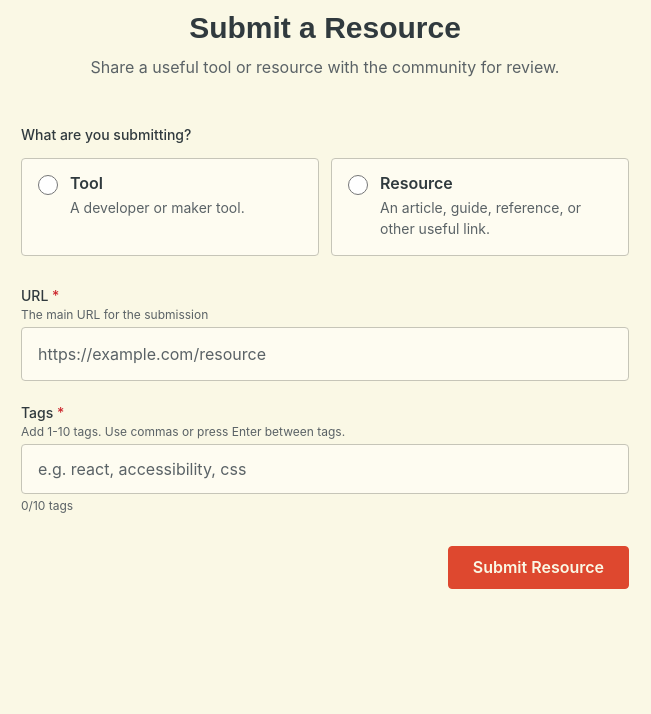
Scenario: SubmitPage › shows safe submission diagnostics to admins outside development mode
Click the radio button labelled "Resource" at (358, 185), box [348,175,368,195]
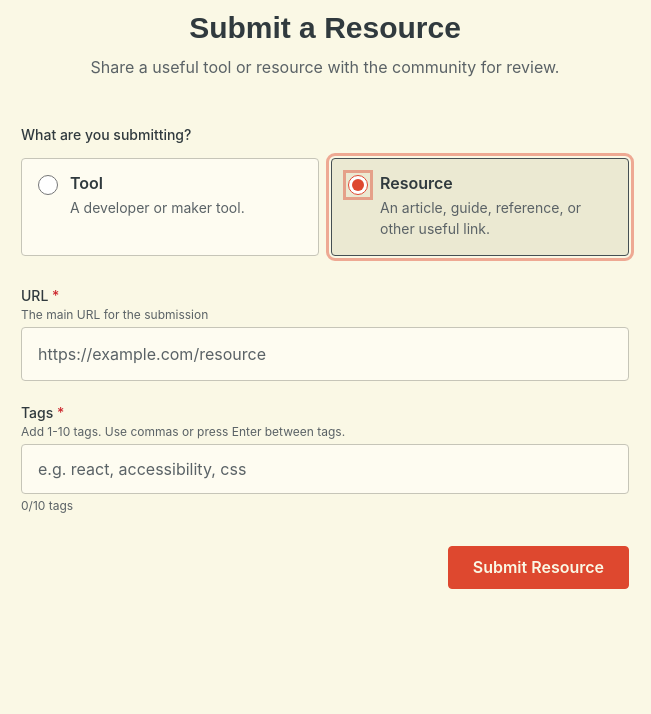
Type "https://example.com/guide" into the field labelled "URL" at (325, 354), box [21,327,629,381]
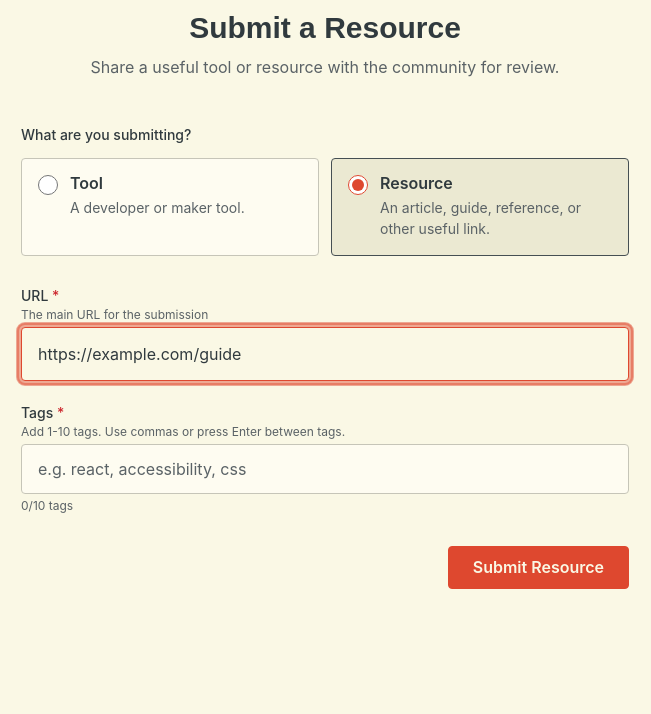
Type "testing" into the field labelled "Tags *" at (325, 469), box [30,453,620,485]
Then press Enter
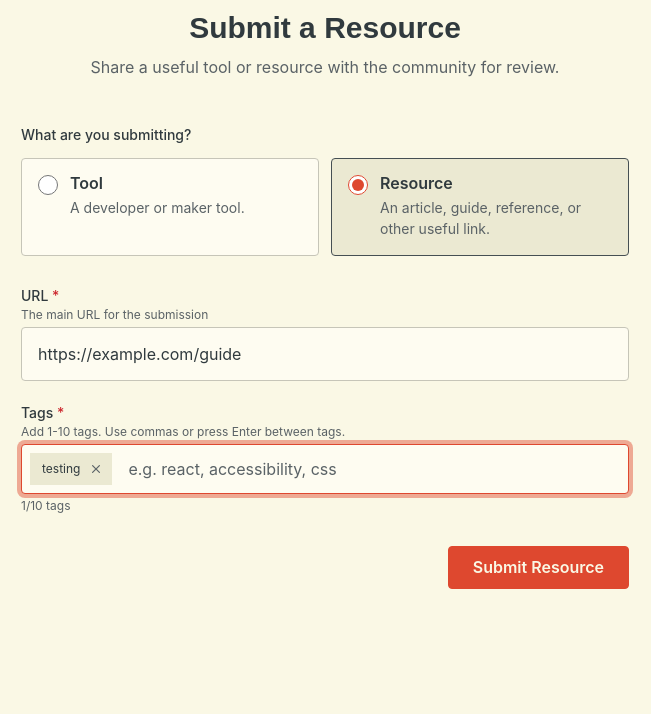
Click the button "Submit Resource" at (538, 567), box [448,546,629,589]
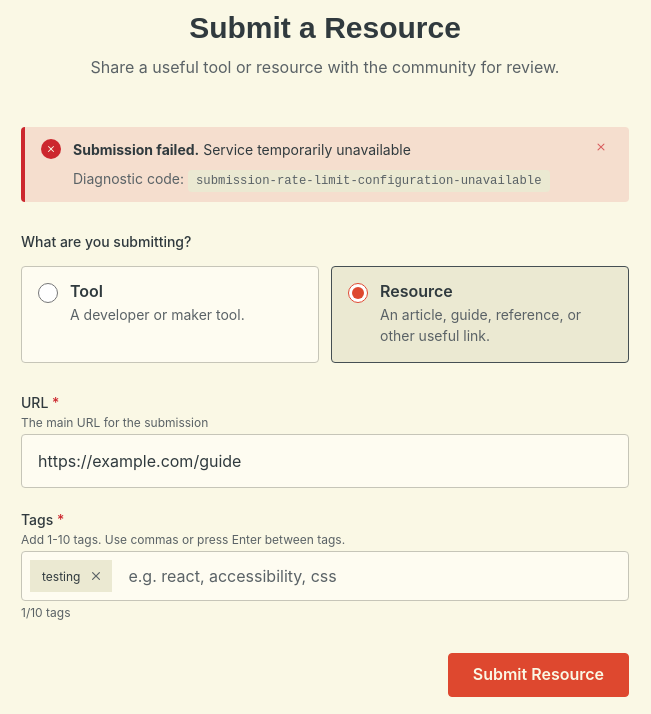
expect the text "Submission failed." is shown: met, box [73,141,199,158]
expect the text "Diagnostic code" is shown: met, box [73,170,188,187]
expect the text "submission-rate-limit-configuration-unavailable" is shown: met, box [188,170,550,192]
